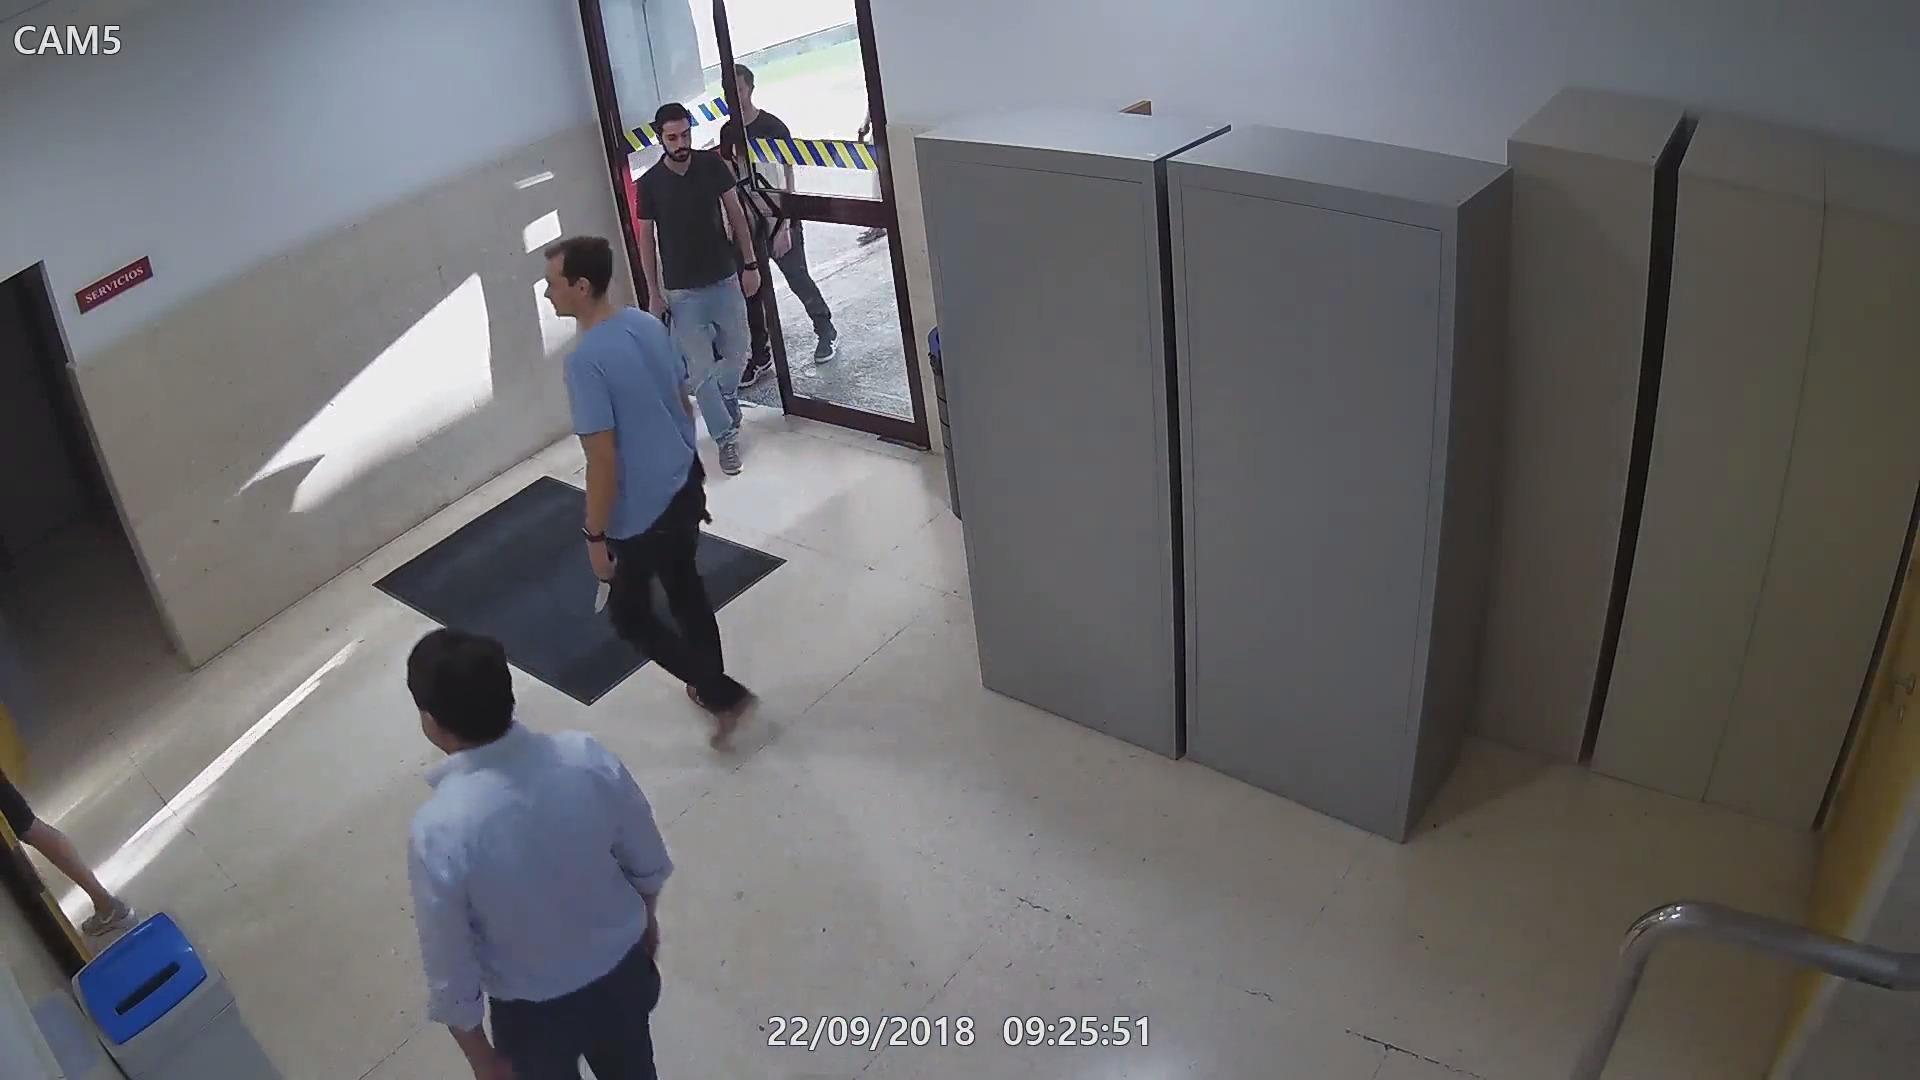Handgun: (647, 297, 674, 342)
